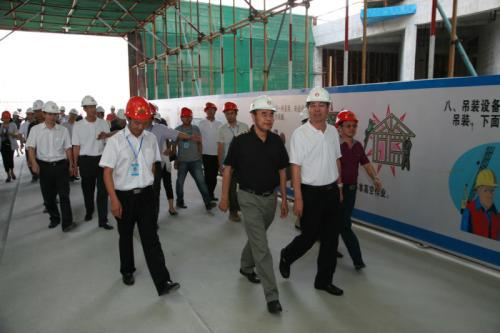helmet: (247, 92, 281, 134), (303, 83, 333, 125), (124, 94, 155, 133), (472, 166, 499, 209), (334, 107, 362, 146), (41, 99, 60, 126), (221, 99, 241, 124), (79, 93, 99, 117), (30, 98, 45, 121), (179, 105, 195, 126), (202, 100, 218, 119)
